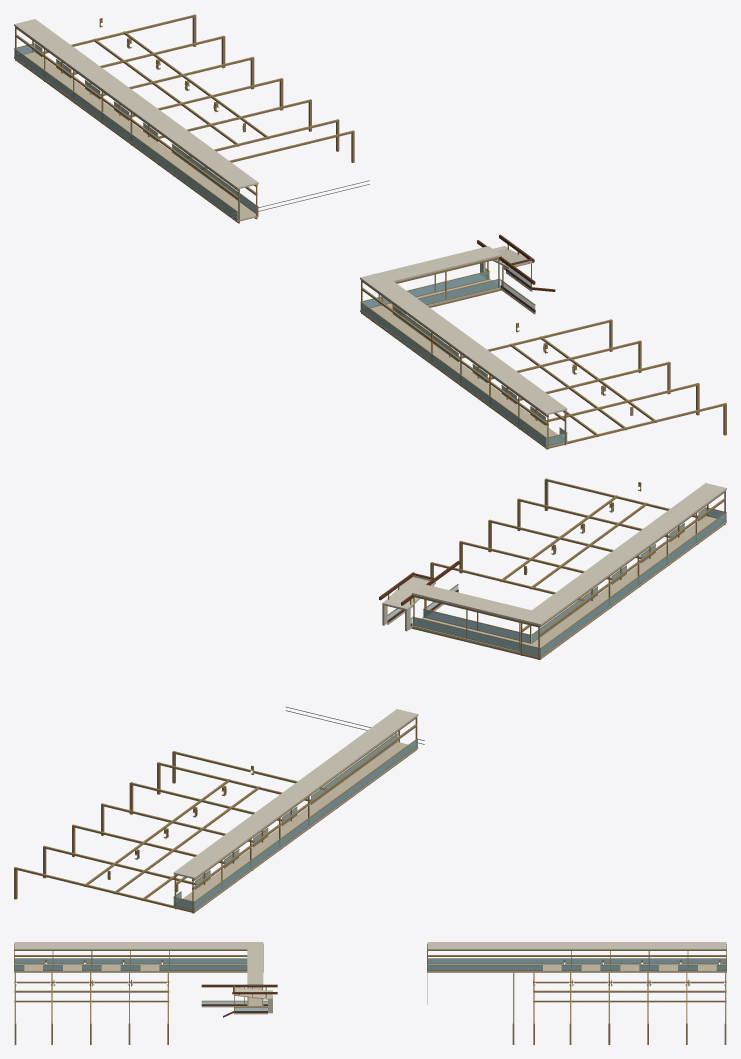
Rendered from D17_STARBOARD_STANDARD_FRAME_r001.glb.
3 views of the same model, one above another, from view 1: azimuth 30°, elevation 25°; view 2: azimuth 150°, elevation 25°; view 3: azimuth 270°, elevation 25° (orthographic). The views are drawn at different scales.
Parts seen in each view (by area): view 1: SBS_Roof0_000_0, SBS_Roof0_001_0, SBS_Roof1_000_0, SBS_Roof1_001_0, SBS_Floor0_001_0, SBS_Fore_Outer_000_0, SBS_Fore_Outer_001_0, SBS_Aft_Outer_000_0, SBS_Floor1_001_0, SBS_Aft_Outer_001_0, SBS_Floor0_000_0, SBS_Floor1_000_0 (+5 smaller); view 2: SBS_Roof0_000_0, SBS_Roof0_001_0, SBS_Roof1_000_0, SBS_Roof1_001_0, SBS_Floor0_001_0, SBS_Fore_Outer_000_0, SBS_Fore_Outer_001_0, SBS_Aft_Outer_000_0, SBS_Floor1_001_0, SBS_Aft_Outer_001_0, SBS_Floor0_000_0, PATCH_CR_Batch_approach_ivory_enamel (+9 smaller); view 3: SBS_Fore_Outer_001_0, SBS_Roof0_001_0, SBS_Fore_Outer_000_0, SBS_Aft_Outer_001_0, SBS_Roof0_000_0, SBS_Roof1_001_0, SBS_Aft_Outer_000_0, SBS_Roof1_000_0, SBS_Fore_InnerLast_001_0, SBS_Floor0_000_0, SBS_Floor1_001_0, PATCH_CR_Batch_approach_warm_walnut (+25 smaller).
Boxes of the visible parts, box(x1,y1,x2,y2) form: SBS_Roof0_000_0: box(14, 19, 237, 189); SBS_Roof0_001_0: box(37, 20, 258, 189); SBS_Roof1_000_0: box(360, 277, 546, 414); SBS_Roof1_001_0: box(395, 282, 567, 415); SBS_Floor0_001_0: box(42, 57, 258, 221); SBS_Fore_Outer_000_0: box(14, 49, 237, 218); SBS_Fore_Outer_001_0: box(15, 50, 237, 219); SBS_Aft_Outer_000_0: box(360, 303, 545, 445); SBS_Floor1_001_0: box(400, 319, 567, 447); SBS_Aft_Outer_001_0: box(361, 304, 546, 445); SBS_Floor0_000_0: box(14, 52, 237, 221); SBS_Floor1_000_0: box(360, 310, 546, 447); SBS_Roof0_000_0: box(173, 714, 418, 879); SBS_Roof0_001_0: box(176, 709, 417, 870); SBS_Roof1_000_0: box(532, 488, 726, 625); SBS_Roof1_001_0: box(534, 483, 726, 608); SBS_Floor0_001_0: box(183, 742, 408, 898); SBS_Fore_Outer_000_0: box(194, 739, 417, 909); SBS_Fore_Outer_001_0: box(194, 739, 417, 908); SBS_Aft_Outer_000_0: box(540, 513, 726, 655); SBS_Floor1_001_0: box(540, 516, 716, 637); SBS_Aft_Outer_001_0: box(541, 514, 726, 654); SBS_Floor0_000_0: box(173, 747, 418, 911); PATCH_CR_Batch_approach_ivory_enamel: box(382, 575, 458, 631); SBS_Fore_Outer_001_0: box(428, 958, 726, 963); SBS_Roof0_001_0: box(427, 942, 726, 949); SBS_Fore_Outer_000_0: box(428, 959, 725, 963); SBS_Aft_Outer_001_0: box(14, 958, 247, 963); SBS_Roof0_000_0: box(434, 942, 726, 948); SBS_Roof1_001_0: box(14, 942, 247, 949); SBS_Aft_Outer_000_0: box(15, 959, 246, 963); SBS_Roof1_000_0: box(19, 942, 262, 948); SBS_Fore_InnerLast_001_0: box(427, 965, 542, 970); SBS_Floor0_000_0: box(450, 964, 726, 970); SBS_Floor1_001_0: box(14, 964, 247, 971); PATCH_CR_Batch_approach_warm_walnut: box(201, 984, 277, 1017).
Bounding box in the file's own units: 26.91 × 9 × 133.
Materials: 12 (8 with a texture image).
